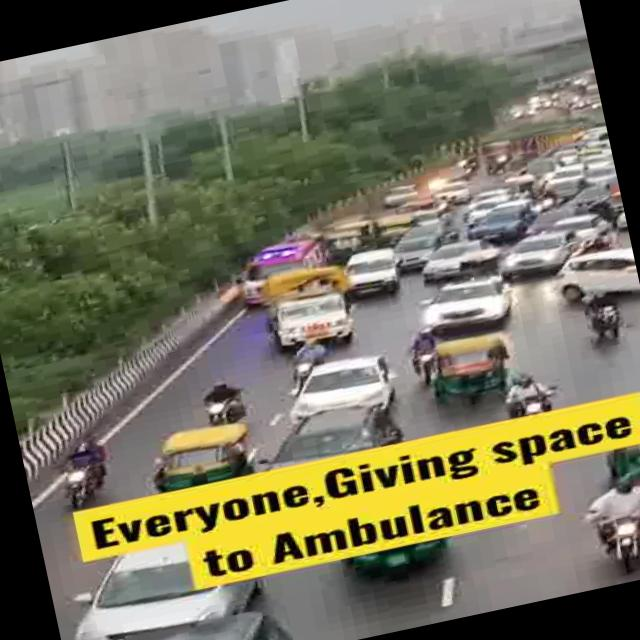ambulance: (230, 229, 338, 302)
